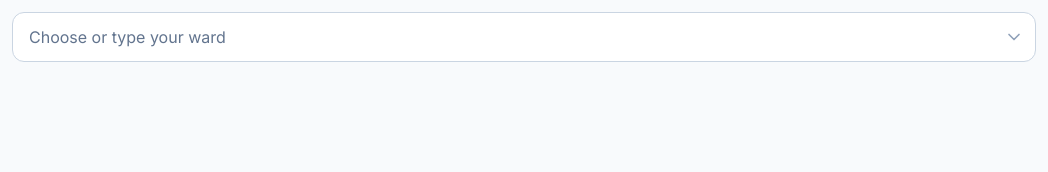
it: #823 — the list is drawn by this application, not by the browser › TYPING FILTERS, and by substring rather than prefix
In the dropdown: (524, 37) [12,12,1036,62], type "malali"
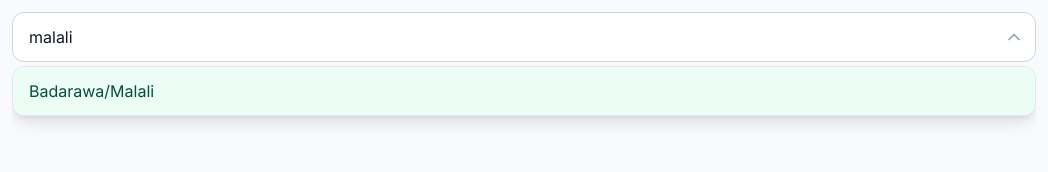
expect the option reads "Badarawa/Malali": met, box [13,67,1035,115]
expect the number of options is 1: met, box [13,67,1035,115]
